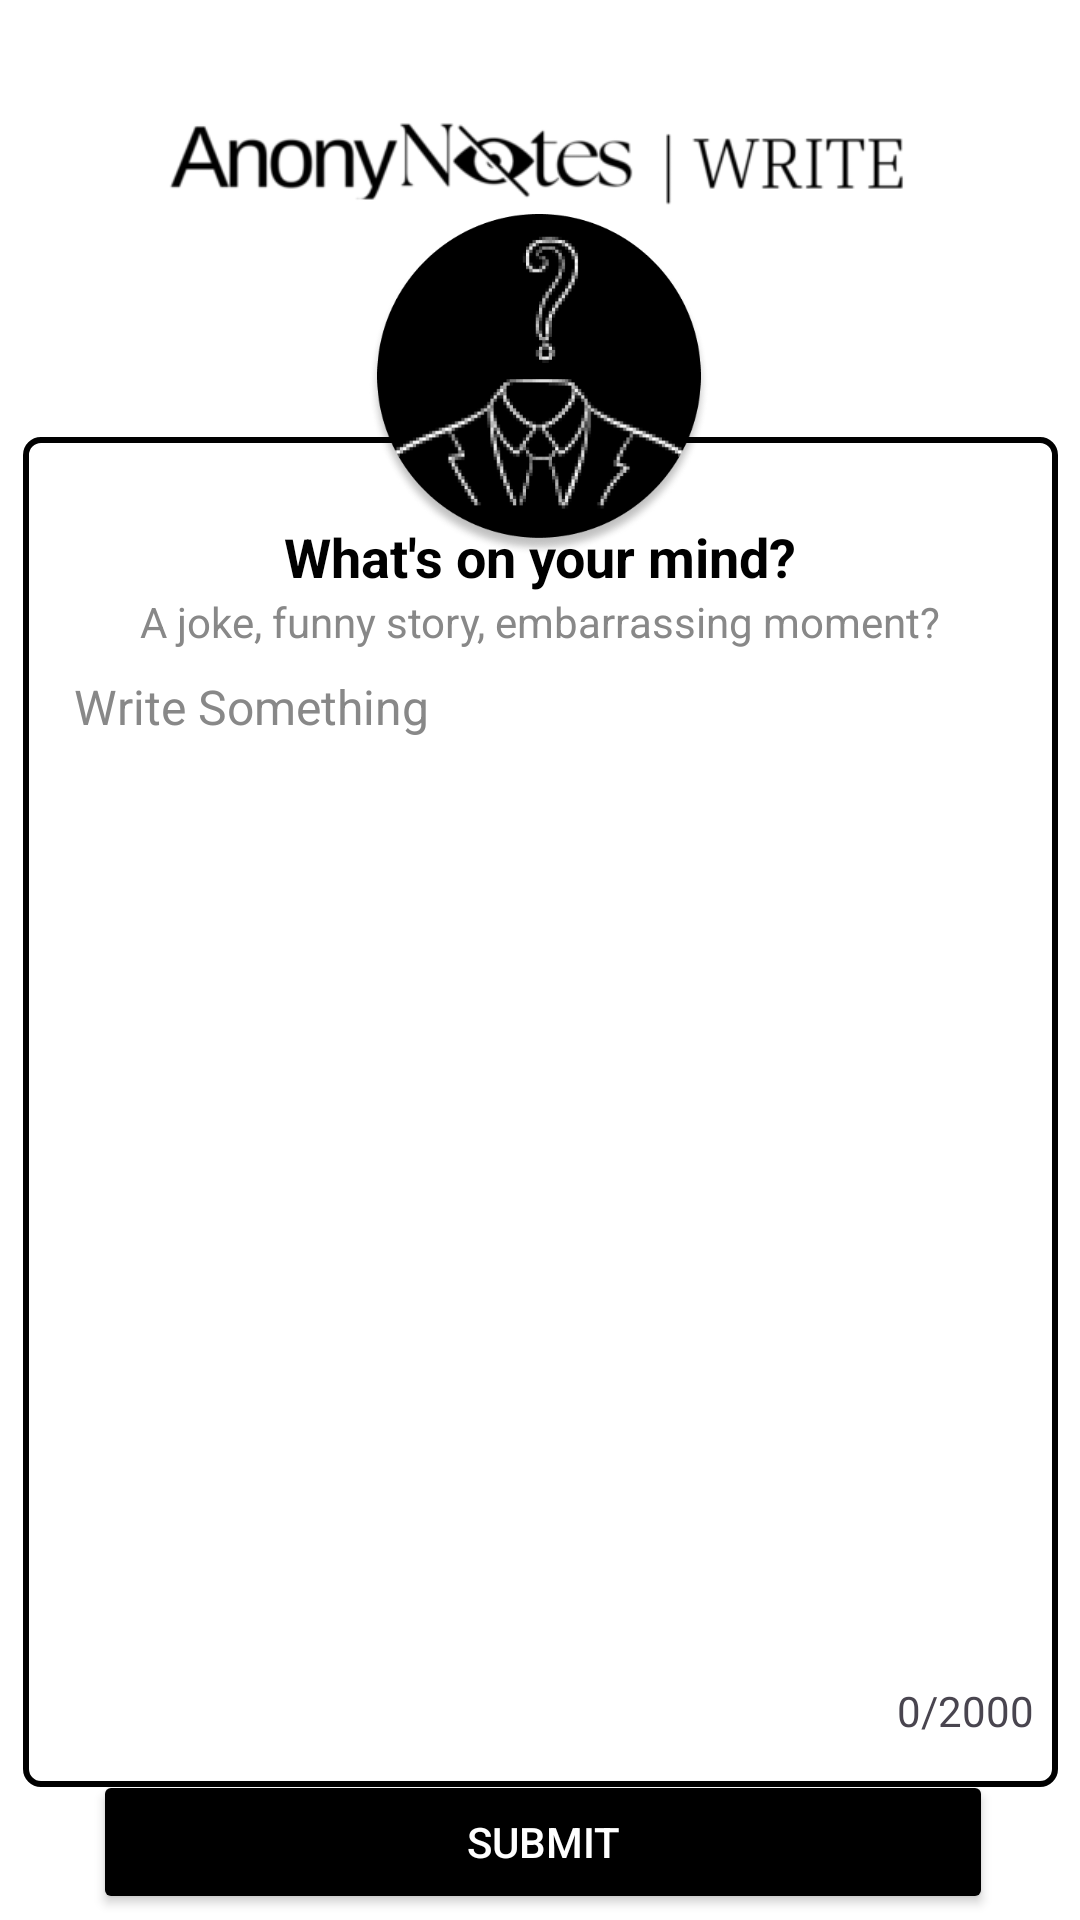

Icons on this 1080w x 1920h Android screen, each with its box as (x1, y1, x2, y2):
anonymous: (359, 214, 719, 556)
